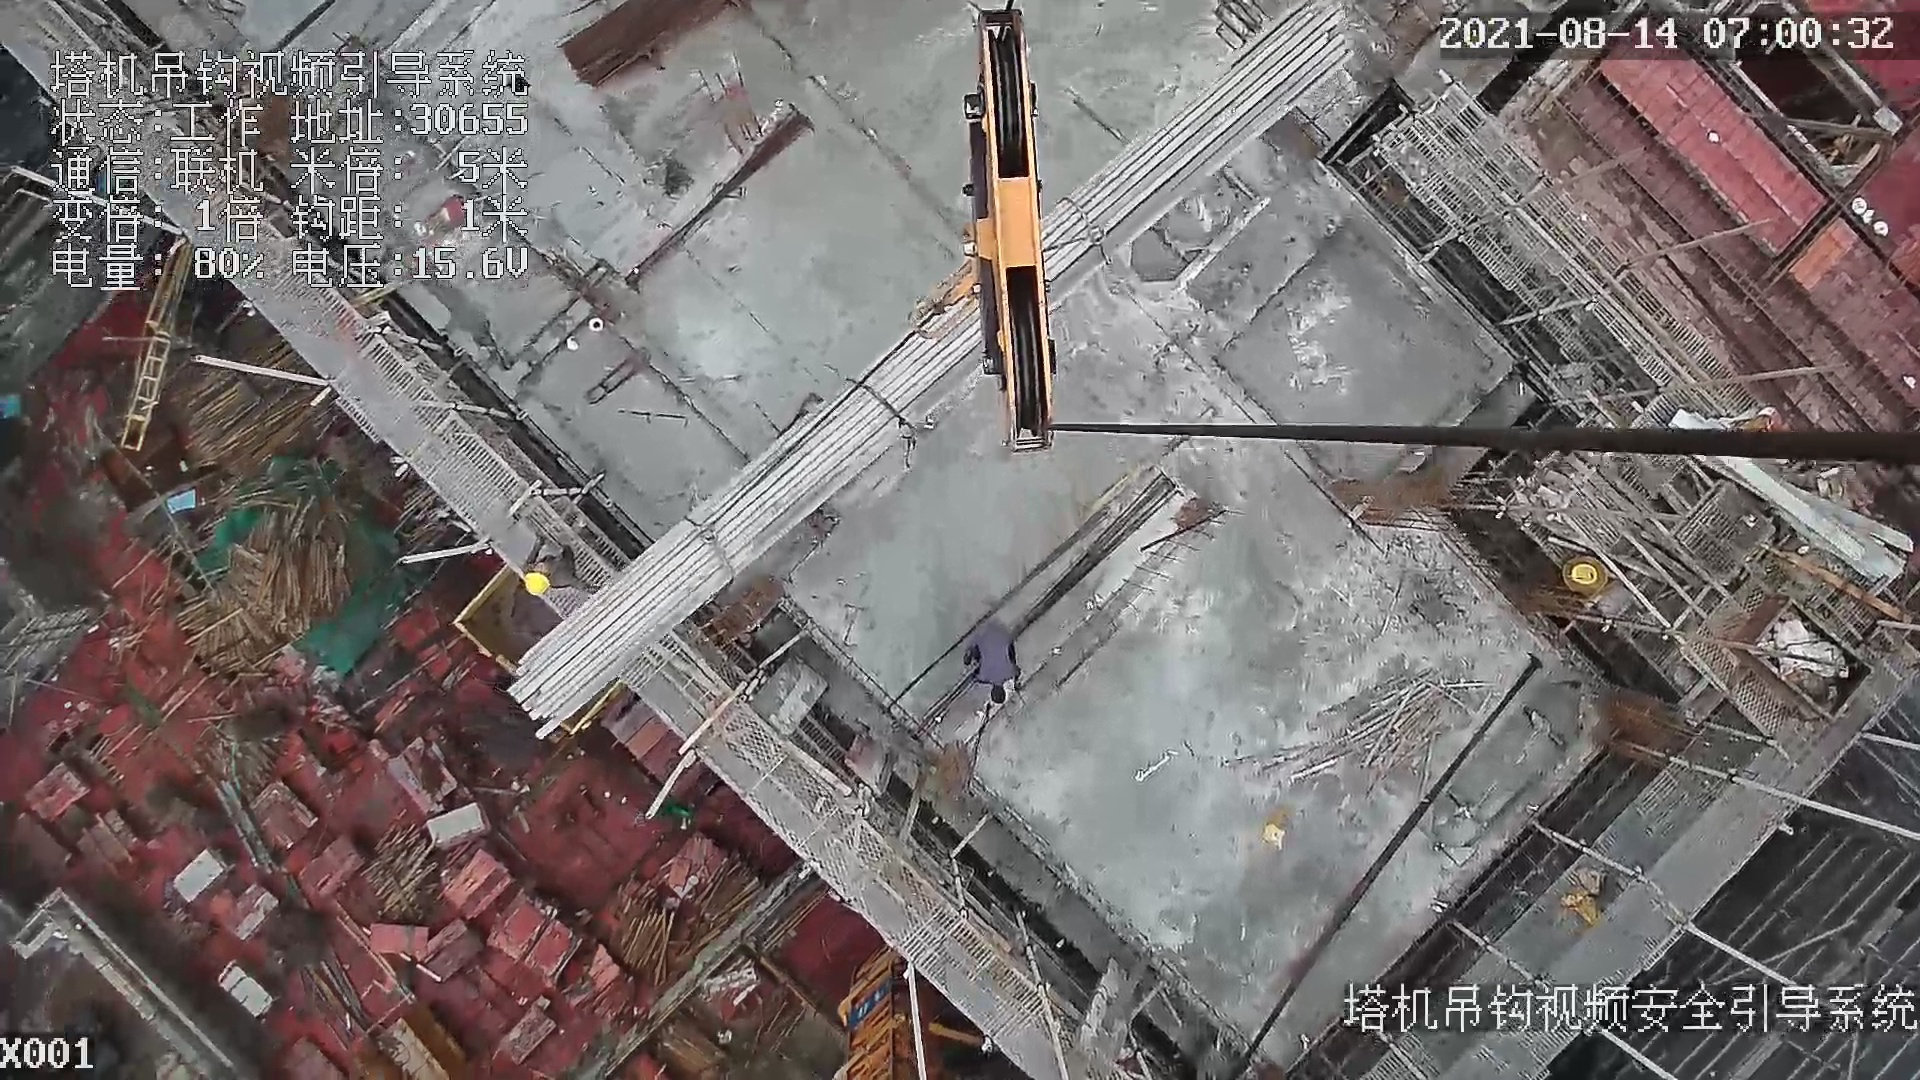helmet: (517, 564, 560, 600)
hook: (901, 1, 1063, 459)
person: (963, 615, 1031, 709), (515, 540, 603, 601)
